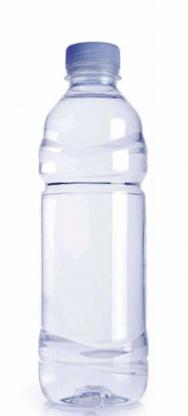Plastic Bottle: (33, 34, 159, 406)
